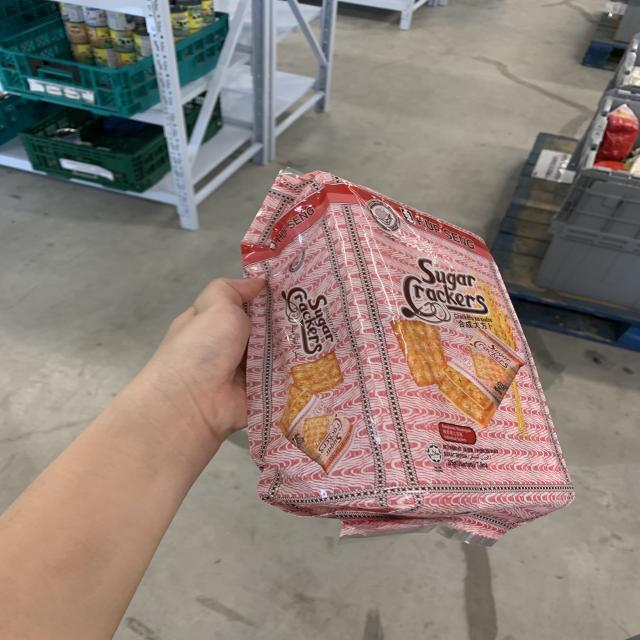object_name: (251, 191, 558, 517)
